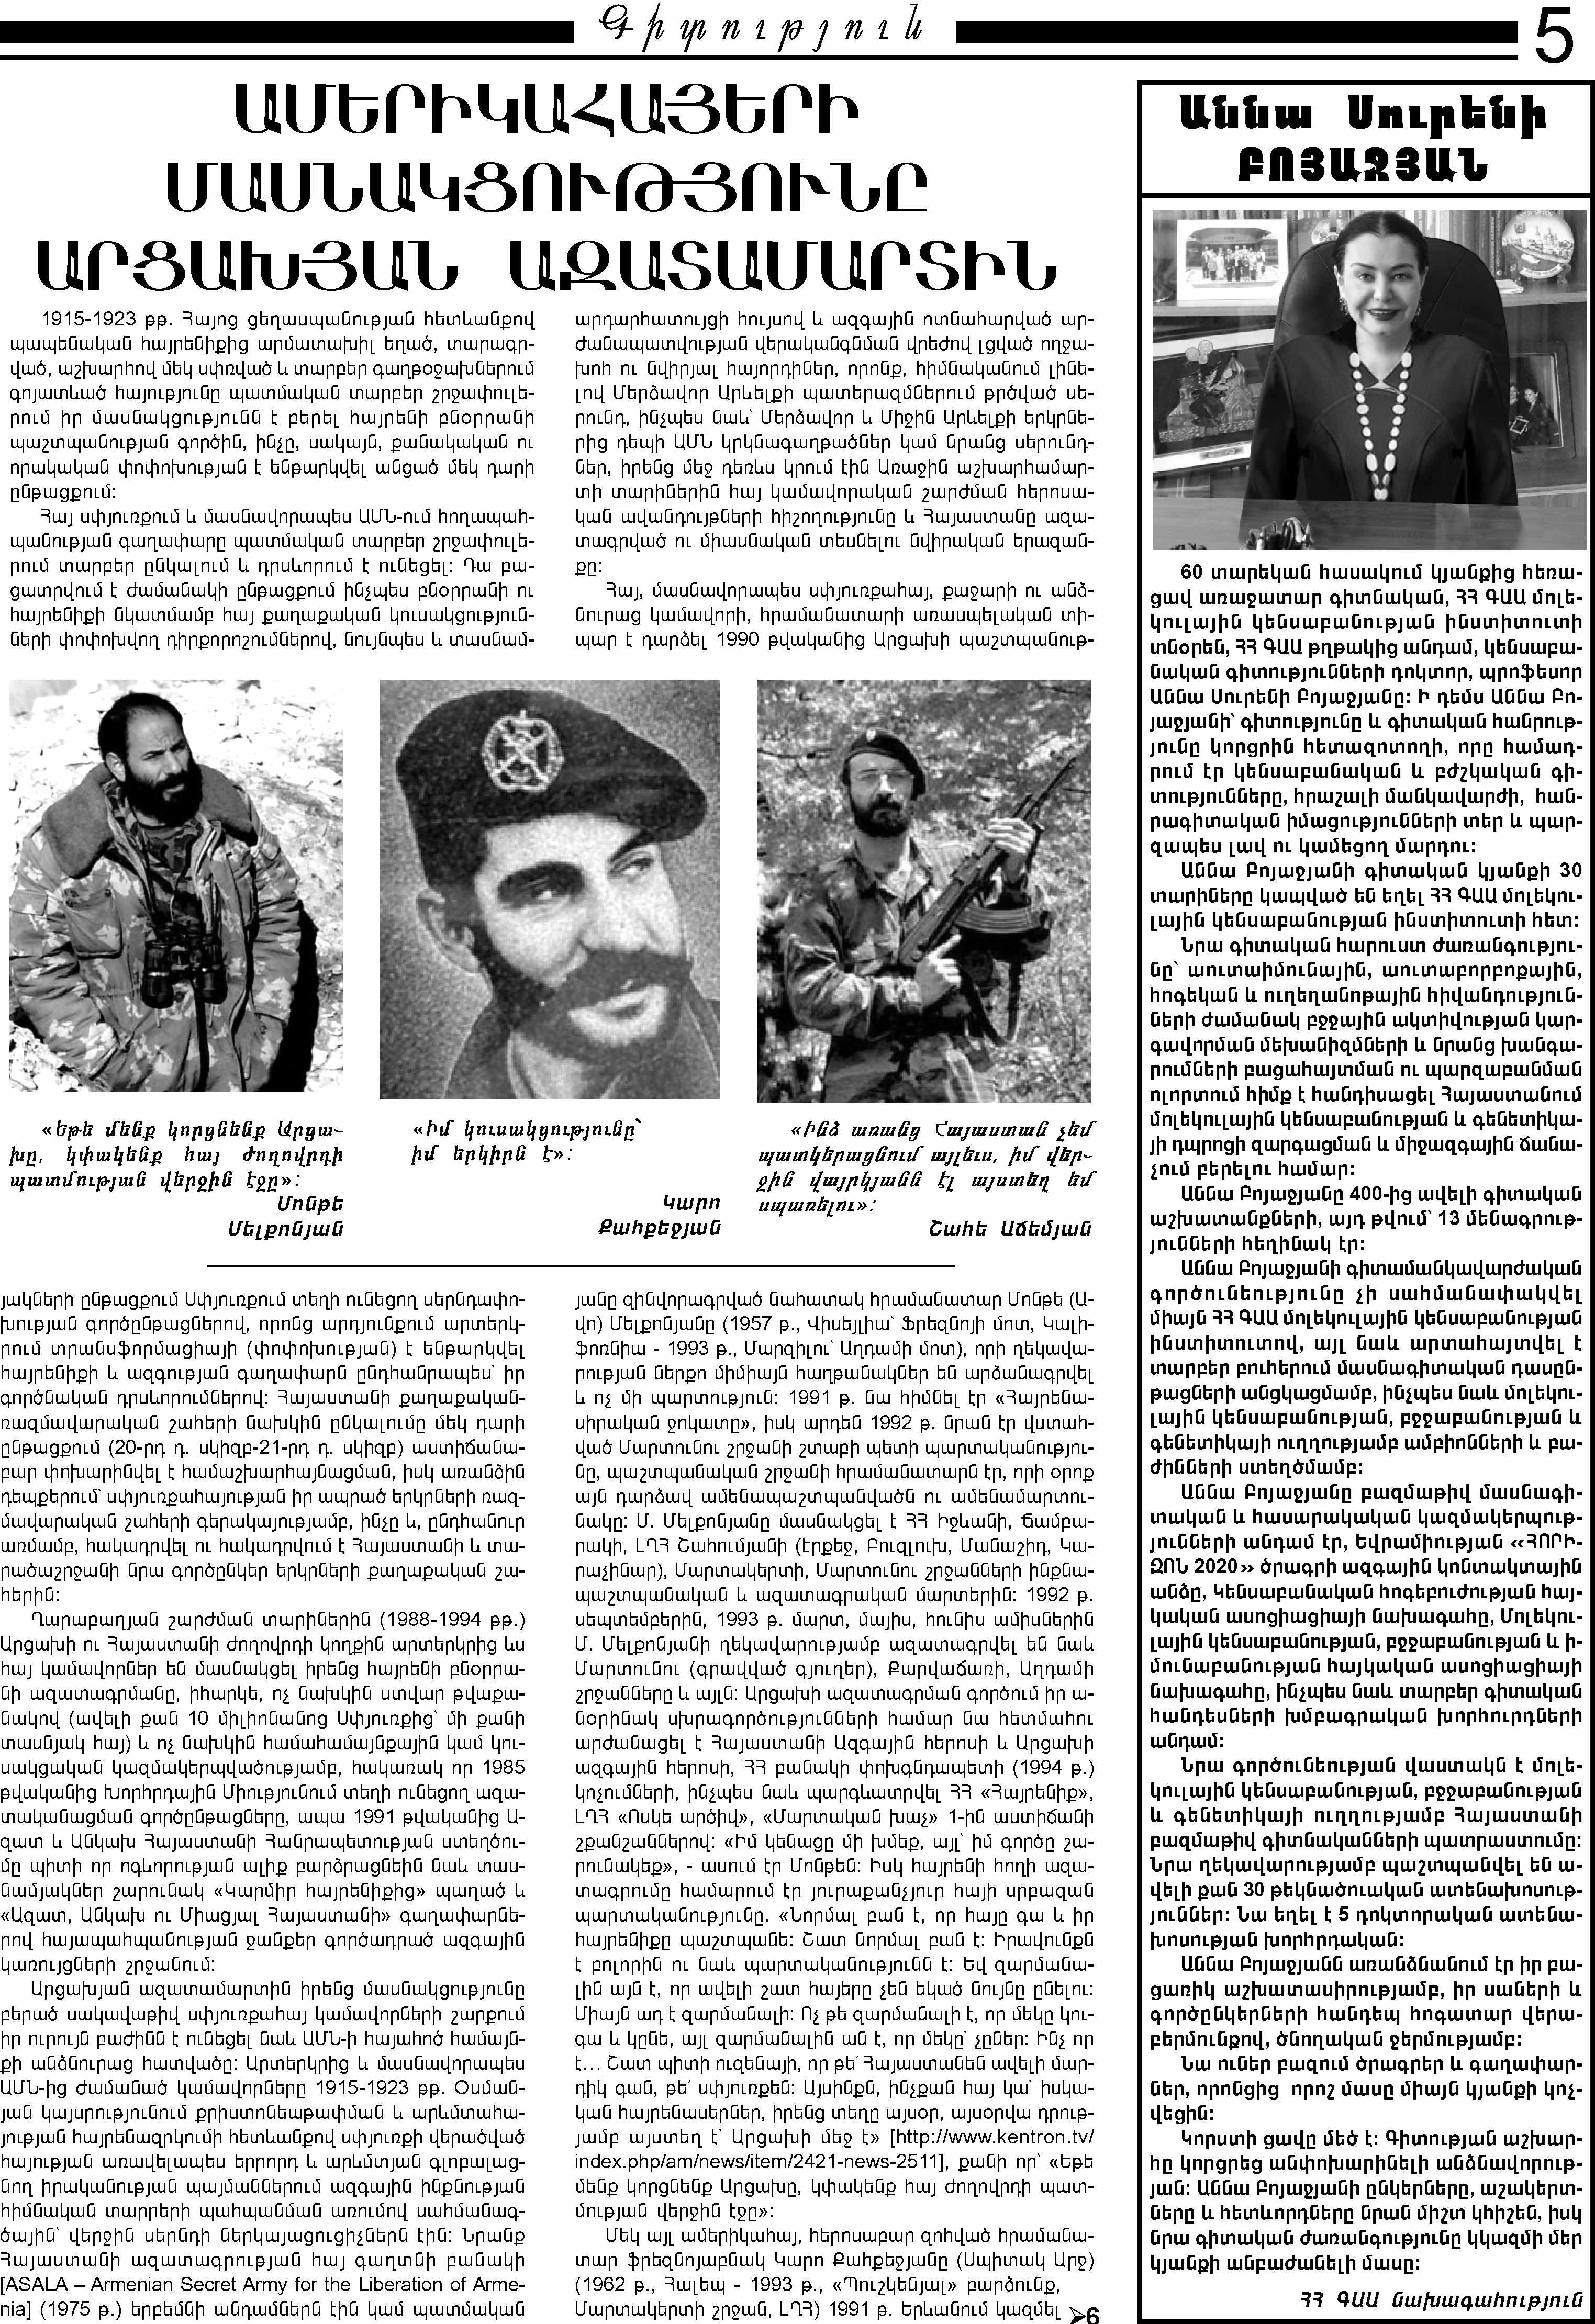person: (748, 665, 1114, 1105), (1145, 206, 1595, 557), (373, 671, 733, 1102), (9, 671, 360, 1102)
